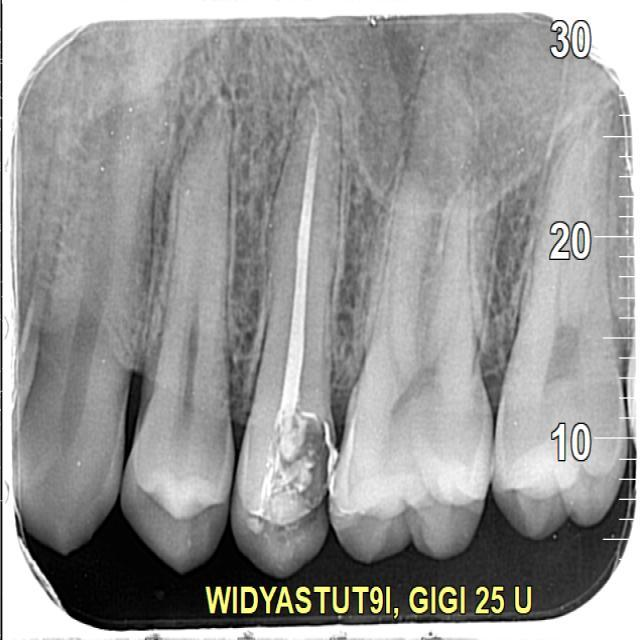individual-tooth-8tto: (332, 183, 490, 565), (120, 111, 243, 576), (235, 103, 339, 572)
